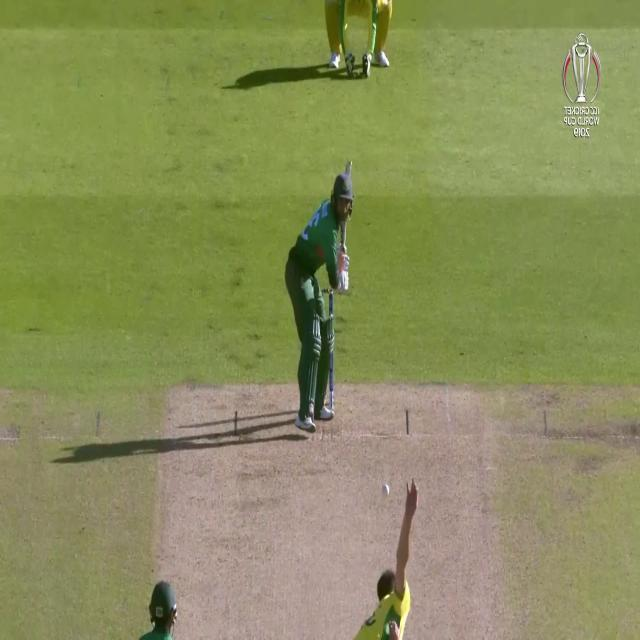ball: (378, 481, 392, 503)
